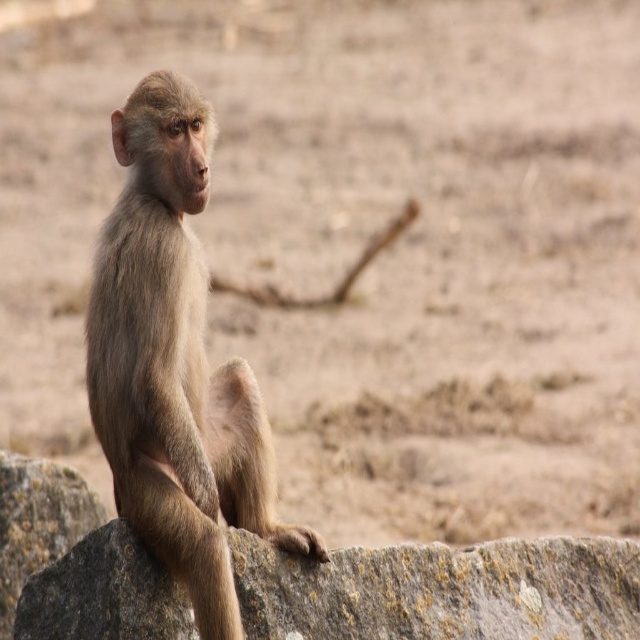Monkey: (84, 70, 331, 639)
